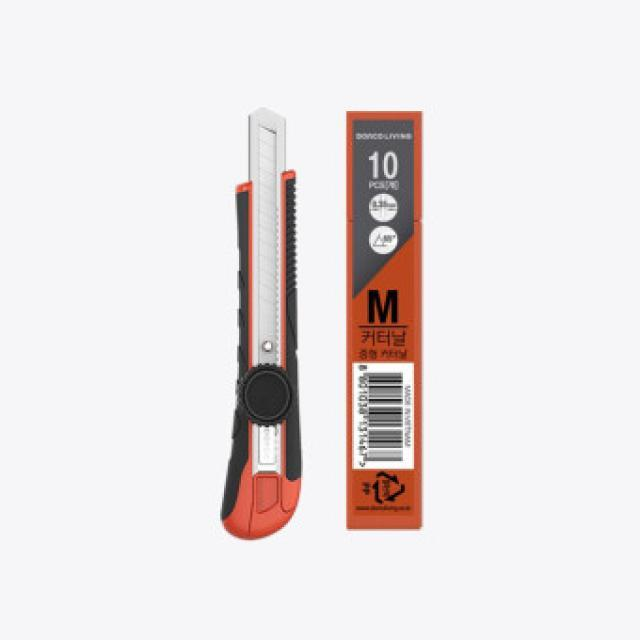cutter: (209, 106, 319, 557)
